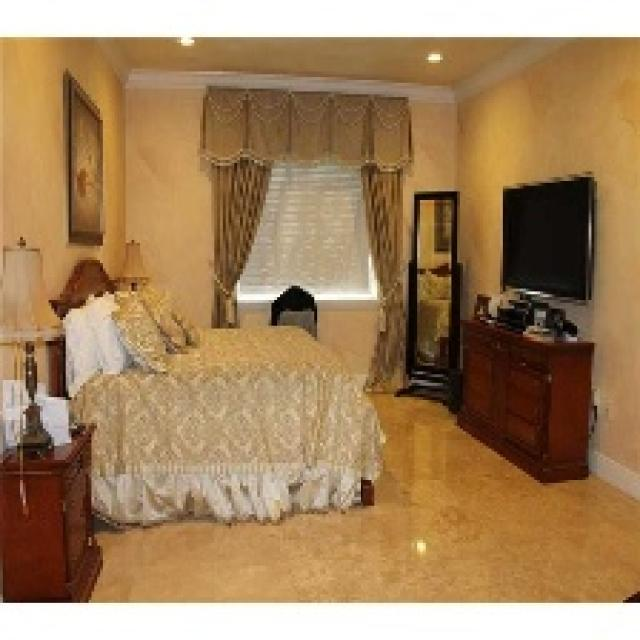TV: (496, 170, 607, 306)
bed: (50, 251, 401, 531)
lamp: (4, 239, 63, 462)
painting: (59, 71, 114, 253)
